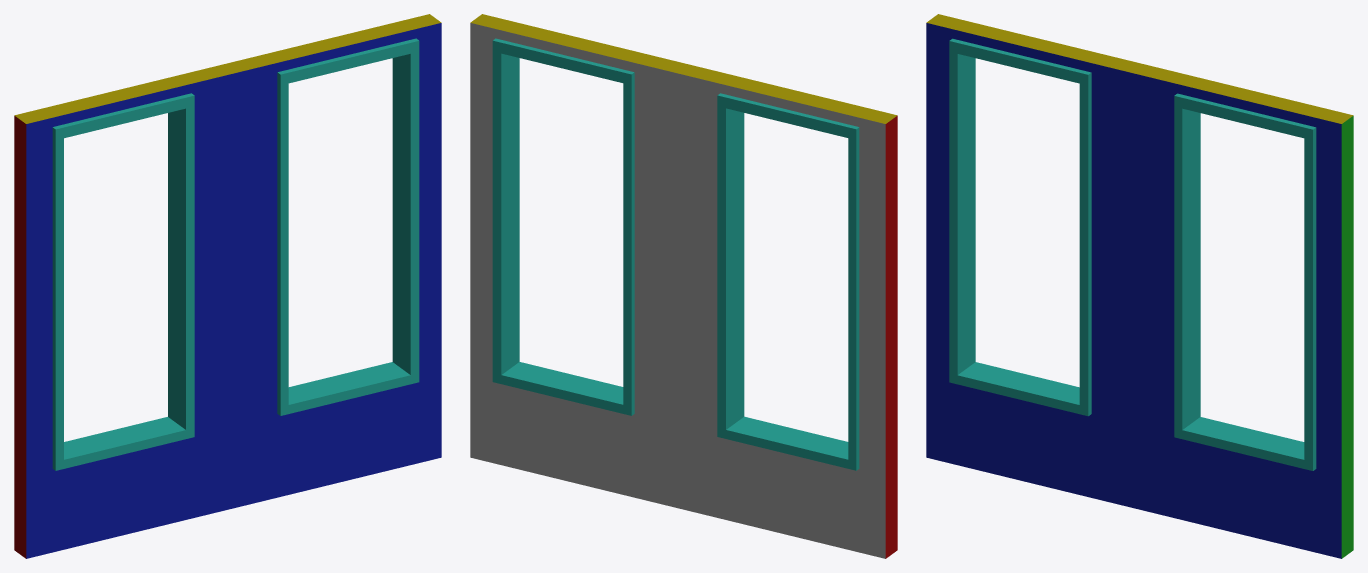
File: Wall_Window_07b.fbx
3 views of the same model, side by side, from view 1: azimuth 30°, elevation 25°; view 2: azimuth 150°, elevation 25°; view 3: azimuth 330°, elevation 25° (orthographic).
Visible parts, largest first — view 1: Wall_Window_07b; view 2: Wall_Window_07b; view 3: Wall_Window_07b.
Part boxes in pixels (x1=…): Wall_Window_07b: x1=14, y1=14, x2=441, y2=558; Wall_Window_07b: x1=470, y1=14, x2=897, y2=558; Wall_Window_07b: x1=926, y1=14, x2=1353, y2=558.
Bounding box in the file's own units: 3 × 0.2274 × 3.
